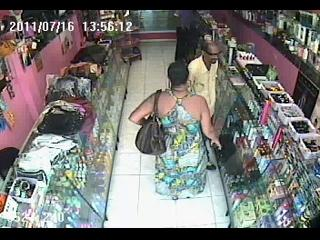Normal: (128, 60, 225, 200), (187, 40, 223, 120), (135, 90, 167, 155)
